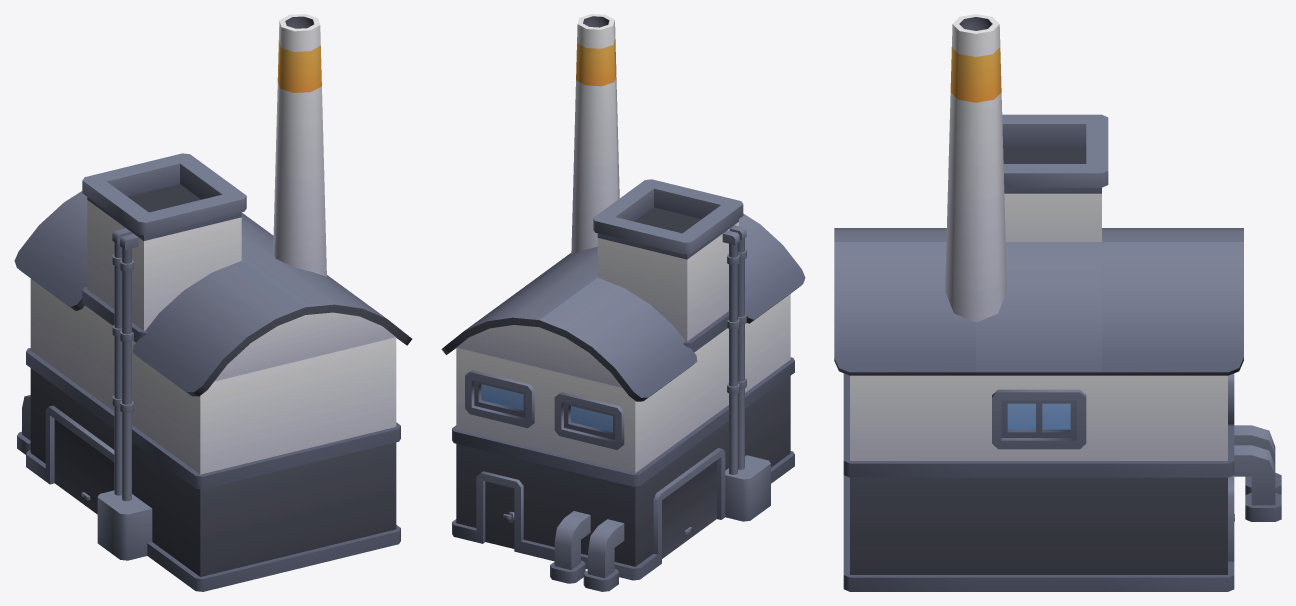
File: kenney-city-industrial-building-n.glb
The picture shows the model from 3 angles, left to right: view 1: azimuth 30°, elevation 25°; view 2: azimuth 150°, elevation 25°; view 3: azimuth 270°, elevation 25°; orthographic projection. The views are drawn at different scales.
Parts seen in each view (by area): view 1: building-n; view 2: building-n; view 3: building-n.
Boxes of the visible parts, x1,y1,x2,y2 form: building-n: (14, 14, 412, 591); building-n: (441, 14, 805, 591); building-n: (834, 14, 1281, 591).
Bounding box in the file's own units: 0.9766 × 1.9 × 1.42.
Materials: 1 (1 with a texture image).
